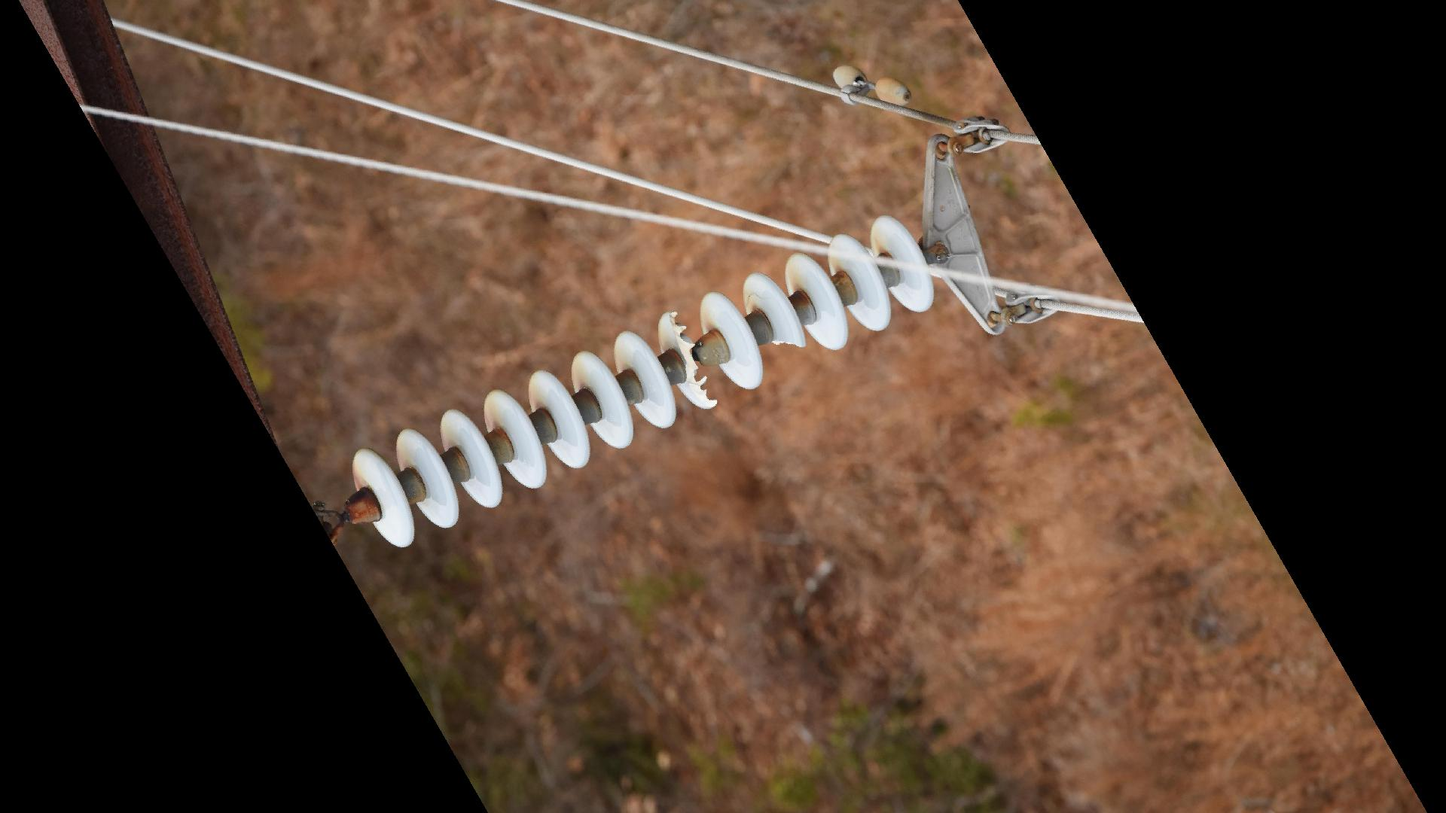insulator: (342, 209, 944, 556)
insulator_breakage: (662, 304, 726, 416)
